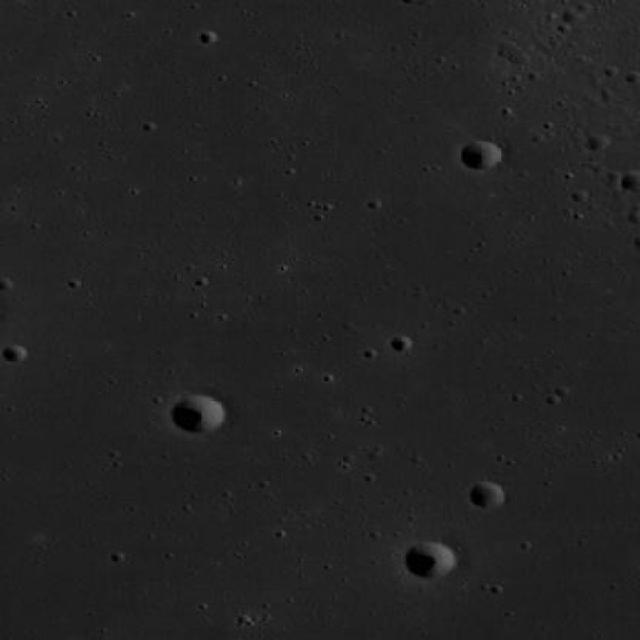crater: (402, 539, 456, 579), (171, 395, 224, 433), (460, 138, 502, 170), (468, 481, 503, 507), (2, 344, 27, 362), (390, 334, 413, 352), (586, 132, 608, 150), (508, 48, 530, 64), (562, 8, 584, 24)
